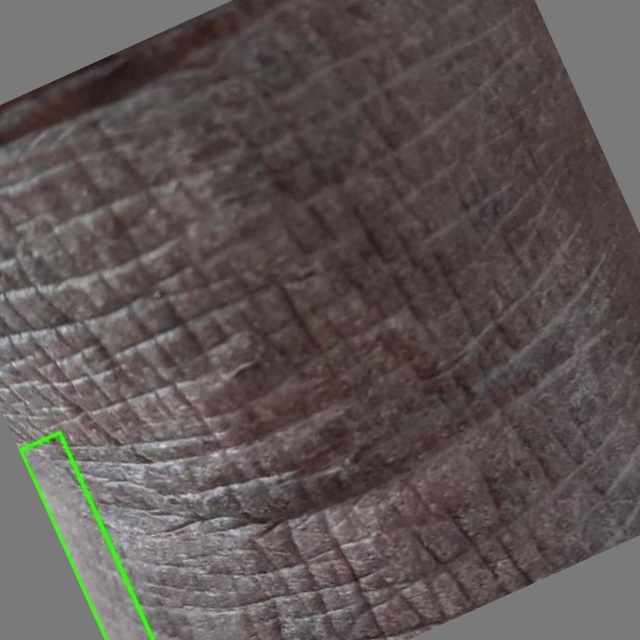Eczema: (19, 432, 152, 639)
